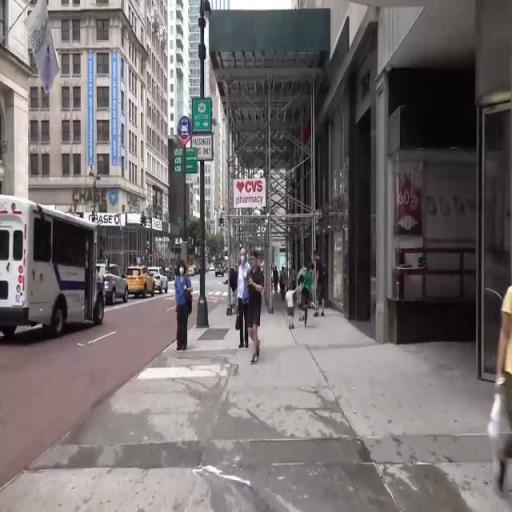person: (250, 252, 266, 373), (173, 257, 191, 356), (295, 261, 314, 331), (239, 245, 250, 352), (312, 247, 329, 314), (225, 261, 239, 317), (286, 285, 296, 334), (272, 265, 280, 296), (282, 265, 287, 299)
